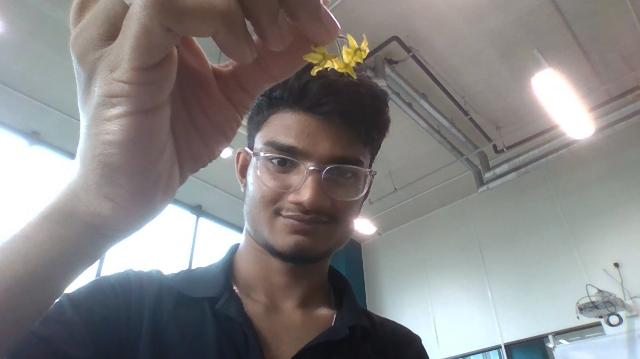Anthesis: (337, 32, 370, 73), (303, 43, 341, 75), (326, 57, 350, 76), (304, 50, 325, 64), (312, 44, 329, 58), (358, 35, 369, 56), (311, 65, 325, 76)
